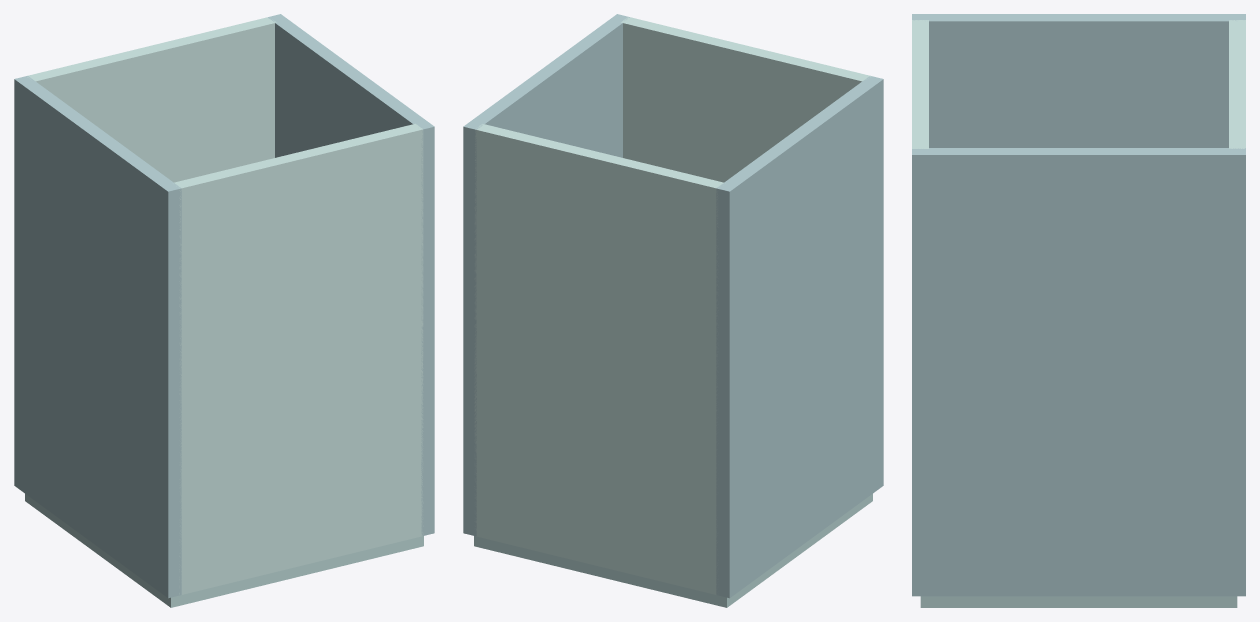
Rendered from tea_glass.glb.
3 views of the same model, side by side, from view 1: azimuth 30°, elevation 25°; view 2: azimuth 150°, elevation 25°; view 3: azimuth 270°, elevation 25° (orthographic). The views are drawn at different scales.
Parts seen in each view (by area): view 1: glass wall.001, glass wall, glass wall.003, glass wall.002, glass base; view 2: glass wall.003, glass wall, glass wall.001, glass wall.002, glass base; view 3: glass wall.002, glass wall, glass base, glass wall.001, glass wall.003.
Part boxes in pixels (x1,y1,x2,y2): glass wall.001: [173, 123, 423, 594]; glass wall: [14, 76, 181, 598]; glass wall.003: [27, 17, 276, 182]; glass wall.002: [268, 14, 434, 535]; glass base: [25, 494, 423, 607]; glass wall.003: [474, 124, 725, 594]; glass wall: [716, 75, 883, 598]; glass wall.001: [621, 17, 871, 182]; glass wall.002: [463, 14, 629, 536]; glass base: [474, 494, 872, 607]; glass wall.002: [912, 148, 1245, 596]; glass wall: [912, 14, 1245, 147]; glass base: [920, 596, 1237, 607]; glass wall.001: [912, 20, 928, 148]; glass wall.003: [1229, 20, 1245, 148].
Bounding box in the file's own units: 0.1844 × 0.2781 × 0.1844.
3 materials, 3 textured.
